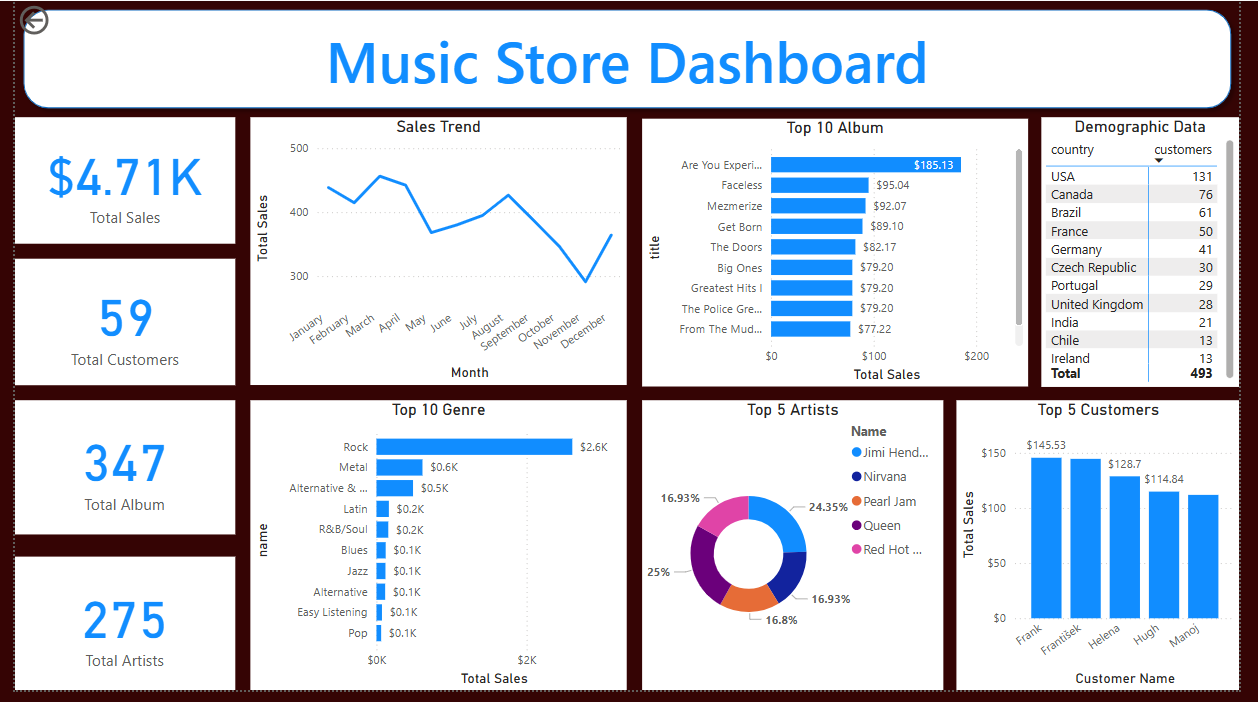

The page's visual inventory and layout, read from the dashboard file:
{"tool":"powerbi","page":{"name":"Page 1","canvas":[1280,720],"ordinal":0},"visuals":[{"type":"card","fields":{"Values":["album.album_id"]},"box":[0,416.7,230,140],"z":0},{"type":"card","fields":{"Values":["customer.customer_id"]},"box":[0,269.3,230.4,132.3],"z":1000},{"type":"card","fields":{"Values":["invoice.Total Sales"]},"box":[0,121.4,230.4,132.3],"z":2000},{"type":"shape","box":[0,0,1280.1,121.1],"z":3000},{"type":"lineChart","title":"Sales Trend","fields":{"Category":["invoice.invoice_date.Variation.Date Hierarchy.Month"],"Y":["invoice.total"]},"box":[246.7,121.7,393.3,280],"z":4000},{"type":"barChart","title":"Top 10 Album","fields":{"Category":["album.title"],"Y":["invoice.Total Sales","invoice.Total Sales"]},"box":[655,123.3,403.3,280],"z":5000},{"type":"actionButton","box":[0,0,100,40],"z":6000},{"type":"barChart","title":"Top 10 Genre","fields":{"Category":["genre.name"],"Y":["invoice.Total Sales"]},"box":[246.7,416.7,393.3,303.3],"z":7000},{"type":"pivotTable","fields":{"Rows":["customer.country"],"Values":["invoice.customer_id"]},"box":[1073.3,121.7,206.7,281.7],"z":8000},{"type":"card","fields":{"Values":["artist.artist_id"]},"box":[0,580,230,140],"z":9000},{"type":"donutChart","title":"Top 5 Artists","fields":{"Y":["invoice.Total Sales"],"Series":["artist.name"]},"box":[655,416.7,315,303.3],"z":10000},{"type":"columnChart","title":"Top 5 Customers","fields":{"Category":["customer.first_name"],"Y":["invoice.Total Sales"]},"box":[983.3,416.7,296.7,303.3],"z":11000}]}

Visuals, with their boxes in screenshot pixels (x1, y1, x2, y2), scaled from the page's 1280x720 canvas onto the 1258x702 screenshot:
card - album.album_id: box=[0, 406, 226, 543]
card - customer.customer_id: box=[0, 263, 226, 392]
card - invoice.Total Sales: box=[0, 118, 226, 247]
shape: box=[0, 0, 1257, 118]
"Sales Trend" lineChart: box=[242, 119, 629, 392]
"Top 10 Album" barChart: box=[644, 120, 1040, 393]
actionButton: box=[0, 0, 98, 39]
"Top 10 Genre" barChart: box=[242, 406, 629, 701]
pivotTable - customer.country x invoice.customer_id: box=[1055, 119, 1257, 393]
card - artist.artist_id: box=[0, 566, 226, 701]
"Top 5 Artists" donutChart: box=[644, 406, 953, 701]
"Top 5 Customers" columnChart: box=[966, 406, 1257, 701]
